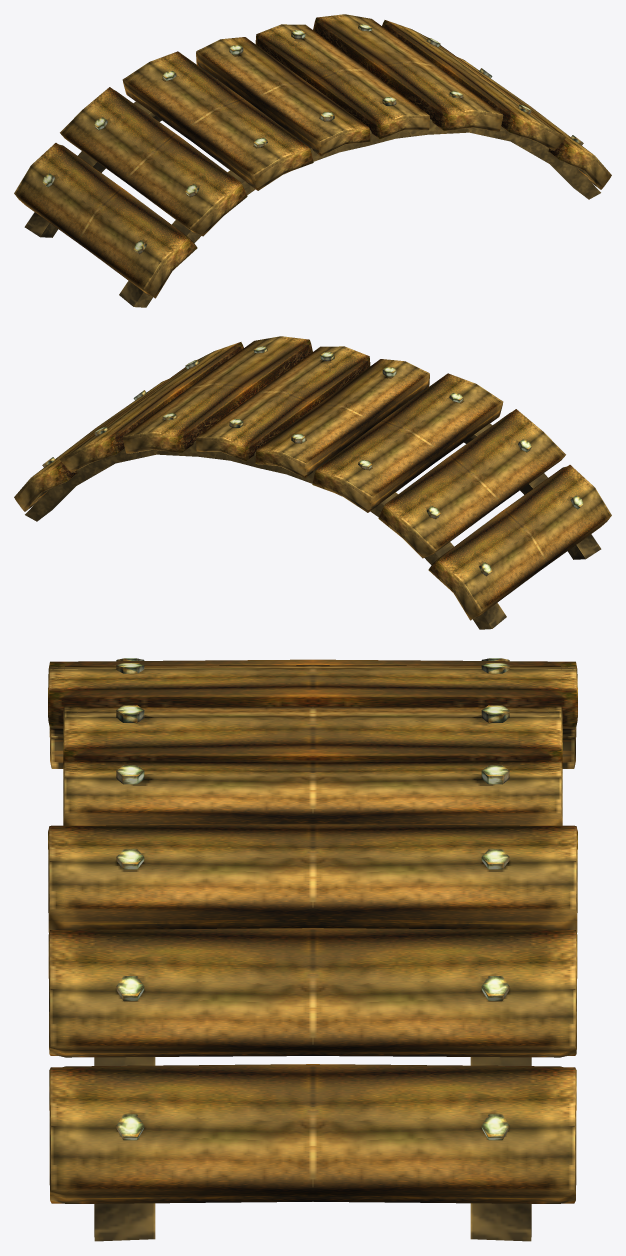
Rendered from bridge.fbx.
3 renders of one model, top to bottom at view 1: azimuth 30°, elevation 25°; view 2: azimuth 150°, elevation 25°; view 3: azimuth 270°, elevation 25°, orthographic. The views are drawn at different scales.
Parts seen in each view (by area): view 1: bridge.000; view 2: bridge.000; view 3: bridge.000.
Part boxes in pixels (x1=…): bridge.000: x1=14, y1=14, x2=611, y2=307; bridge.000: x1=14, y1=336, x2=611, y2=629; bridge.000: x1=48, y1=658, x2=577, y2=1241.
Size of the model in its own units: 441 by 126 by 216.
1 material, 1 textured.
